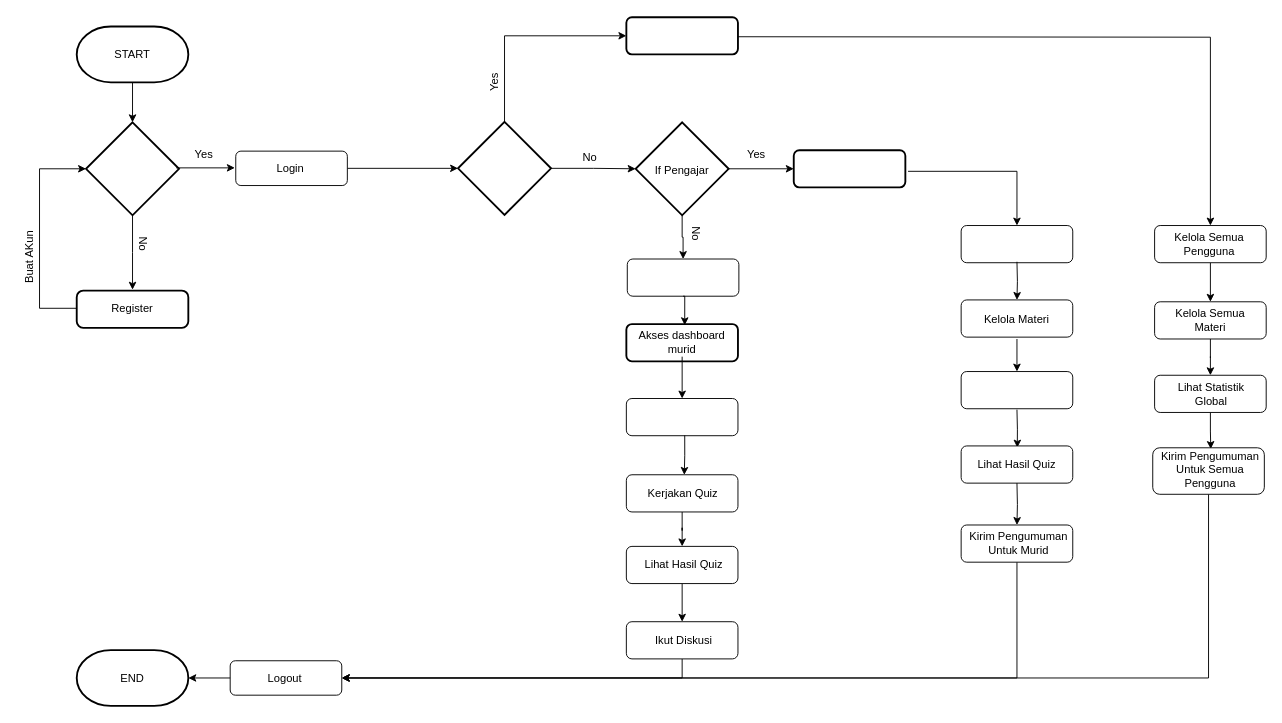
The diagram is 1282 pixels wide and 723 high, and some of its shapes have lost their labels. Here are the shapes that lost their labels. From the top down, the box of each, then its label:
(625, 16, 738, 55): Akses dashboard admin
(85, 121, 179, 216): Sudah punya akun?
(457, 120, 551, 215): If Admin
(792, 149, 906, 188): Akses dashboard pengajar
(960, 225, 1073, 263): Buat Kelas Private
(626, 258, 739, 296): Akses Kelas Private
(960, 371, 1073, 409): Kelola Quiz
(625, 398, 738, 436): Pilih Materi
